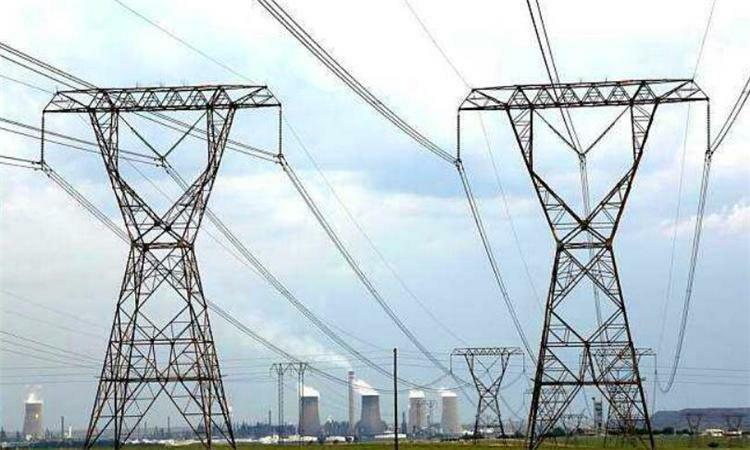power_tower: (451, 71, 710, 450), (36, 77, 287, 447), (449, 339, 525, 450)
